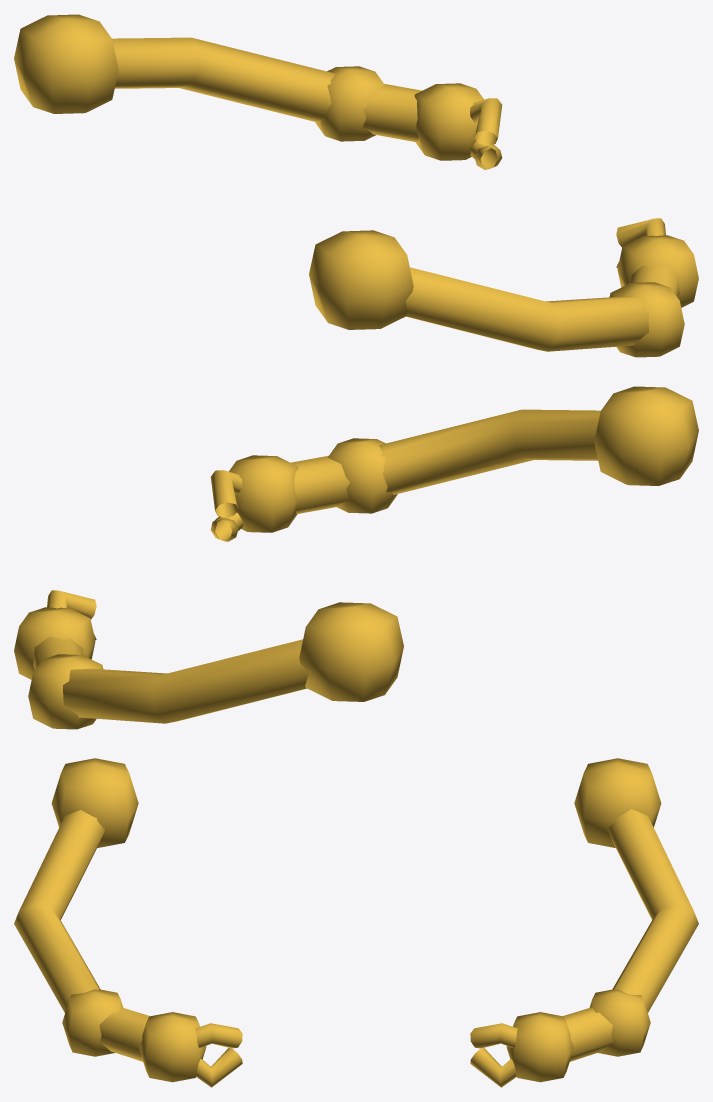
File: harvester-arms.fit.glb
3 renders of one model, top to bottom at view 1: azimuth 30°, elevation 25°; view 2: azimuth 150°, elevation 25°; view 3: azimuth 270°, elevation 25°, orthographic. The views are drawn at different scales.
Parts seen in each view (by area): view 1: harvester-arms; view 2: harvester-arms; view 3: harvester-arms.
Boxes of the visible parts, box(x1,y1,x2,y2) form: harvester-arms: box(14, 14, 698, 357); harvester-arms: box(14, 386, 698, 729); harvester-arms: box(14, 758, 698, 1087).
Bounding box in the file's own units: 0.44 × 0.1908 × 0.7076.
